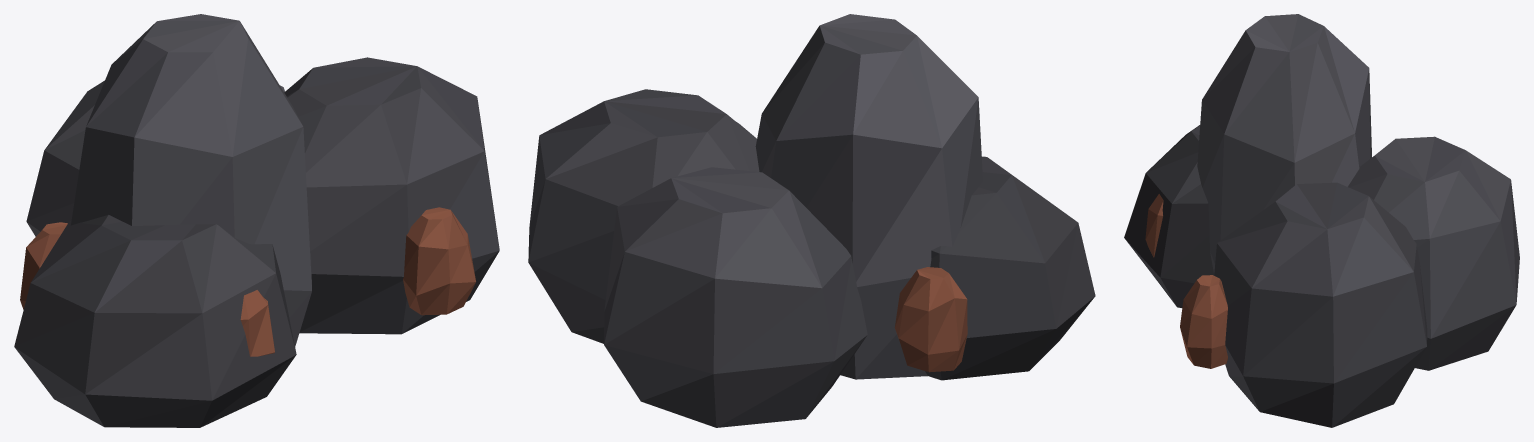
Rendered from slag_heap.glb.
3 views of the same model, side by side, from view 1: azimuth 30°, elevation 25°; view 2: azimuth 150°, elevation 25°; view 3: azimuth 270°, elevation 25° (orthographic). The views are drawn at different scales.
Parts seen in each view (by area): view 1: geometry; view 2: geometry; view 3: geometry.
Boxes of the visible parts, bbox=[...] form: geometry: bbox=[14, 14, 499, 427]; geometry: bbox=[528, 14, 1095, 427]; geometry: bbox=[1124, 14, 1519, 427].
Size of the model in its own units: 0.8173 by 0.49 by 0.6477.
